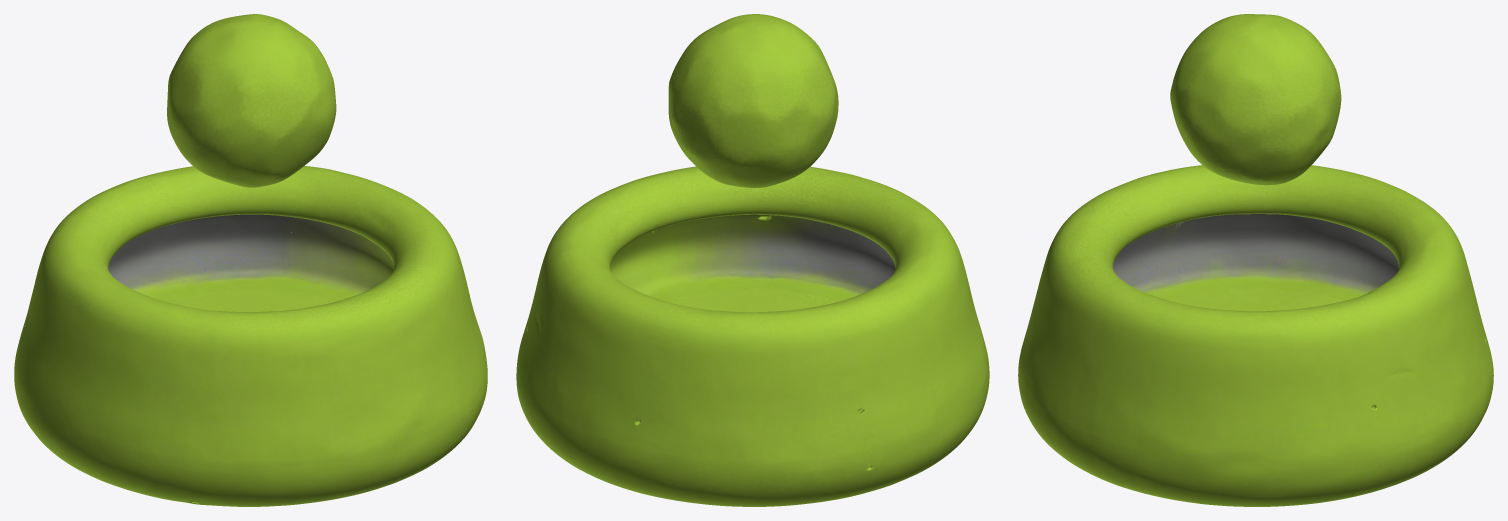
Rendered from env_nest_ring_01.glb.
3 renders of one model, left to right at view 1: azimuth 30°, elevation 25°; view 2: azimuth 150°, elevation 25°; view 3: azimuth 270°, elevation 25°, orthographic.
Parts seen in each view (by area): view 1: tripo_node_3c6bf1ae-8e49-472a-b6b3-05d3bb7a093c; view 2: tripo_node_3c6bf1ae-8e49-472a-b6b3-05d3bb7a093c; view 3: tripo_node_3c6bf1ae-8e49-472a-b6b3-05d3bb7a093c.
Boxes of the visible parts, bbox=[...] form: tripo_node_3c6bf1ae-8e49-472a-b6b3-05d3bb7a093c: bbox=[14, 14, 487, 506]; tripo_node_3c6bf1ae-8e49-472a-b6b3-05d3bb7a093c: bbox=[516, 14, 989, 506]; tripo_node_3c6bf1ae-8e49-472a-b6b3-05d3bb7a093c: bbox=[1018, 14, 1493, 506].
Bounding box in the file's own units: 1.5 × 1.4 × 1.5.
1 material, 1 textured.
